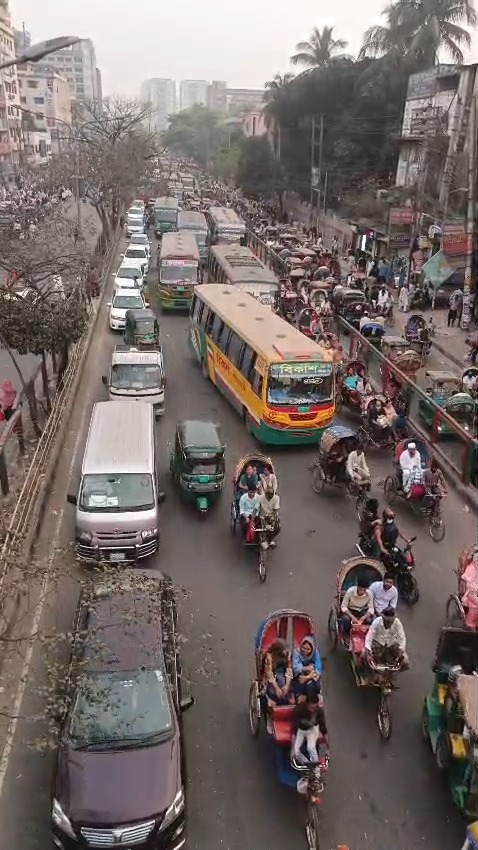Ambulance: (72, 384, 169, 594), (93, 336, 190, 415), (100, 189, 153, 302)
Bikes: (333, 500, 440, 605)
Bus: (190, 275, 353, 436), (212, 242, 278, 304), (158, 229, 202, 298), (203, 194, 242, 244), (167, 207, 213, 246)
auto-ricksaw: (245, 584, 350, 845), (331, 556, 418, 732), (378, 425, 467, 545), (381, 325, 478, 426), (227, 445, 306, 554), (333, 282, 432, 359), (301, 418, 396, 497)
cng: (166, 412, 230, 518), (120, 299, 169, 354)
private car: (65, 584, 201, 850)
